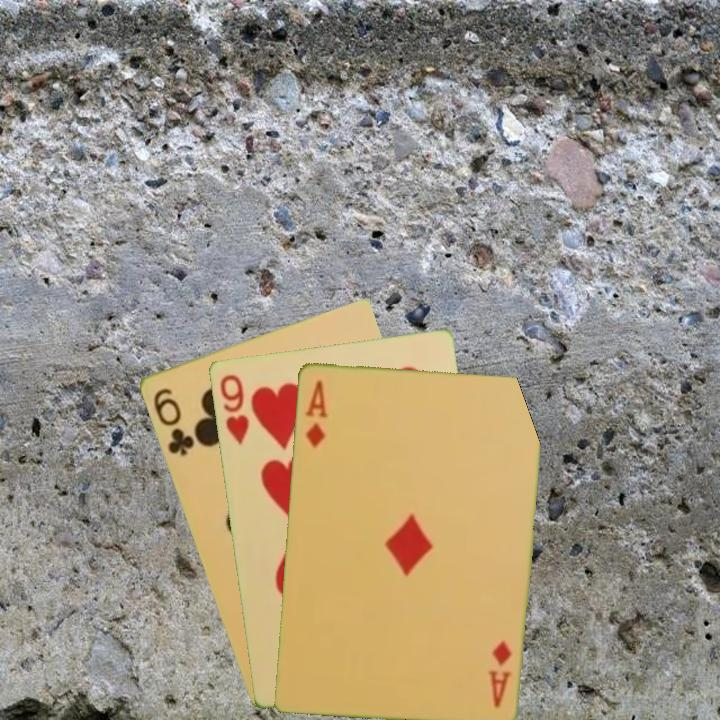6c: (149, 384, 197, 459)
9h: (216, 370, 252, 447)
Ad: (485, 636, 515, 710), (301, 376, 330, 450)
